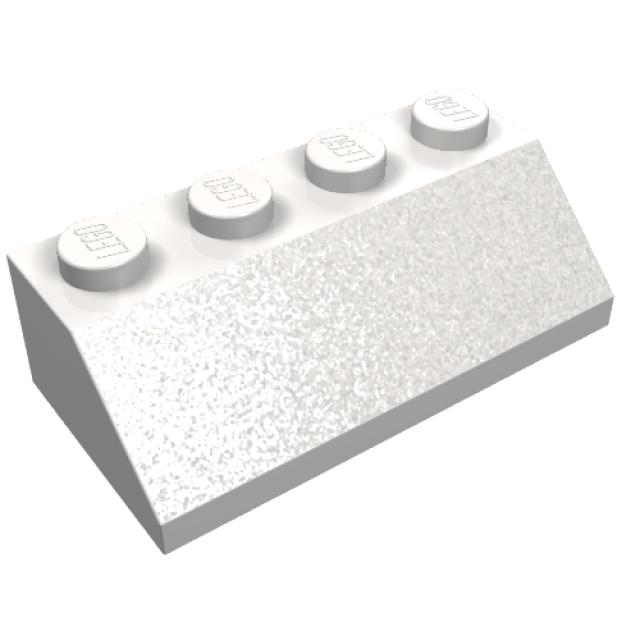White_Medium: (6, 83, 614, 557)
